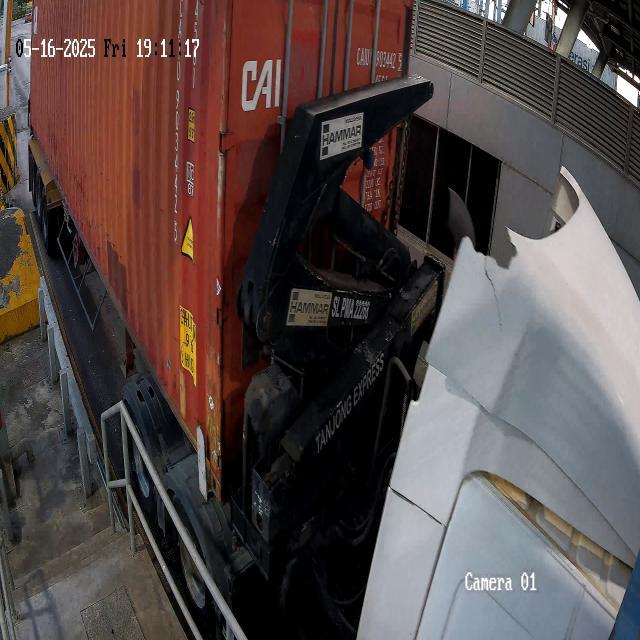ISO: (184, 0, 203, 100)
container_number: (172, 0, 182, 258)
